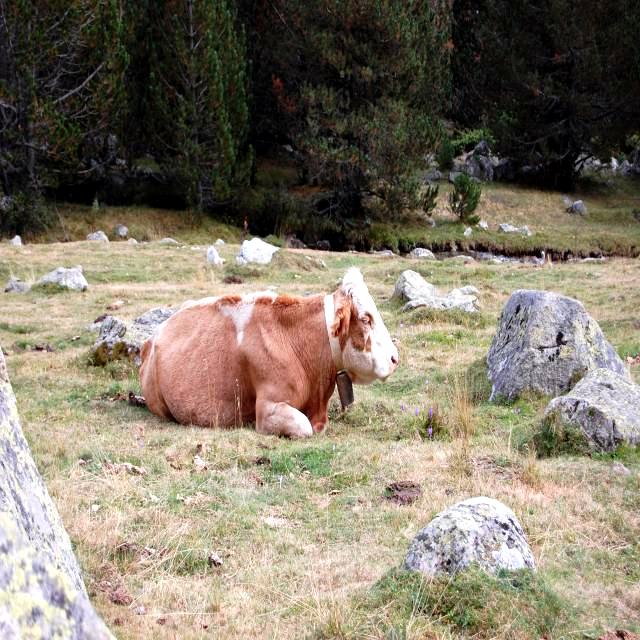COW: (140, 269, 398, 438)
